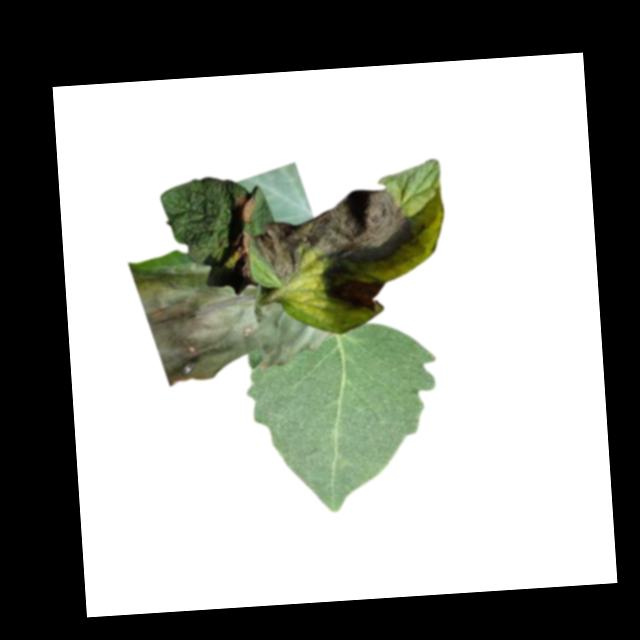Late_blight: (126, 256, 335, 385), (251, 186, 413, 277), (328, 275, 387, 314), (229, 192, 256, 222), (231, 229, 252, 263)
healthy: (243, 320, 445, 517)
